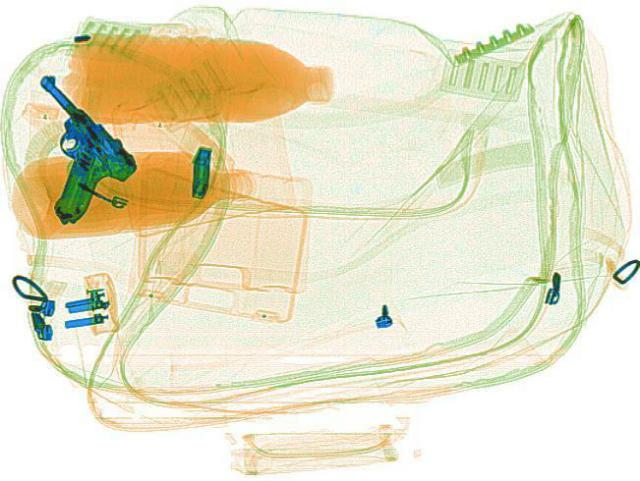Gun: (35, 70, 141, 223)
